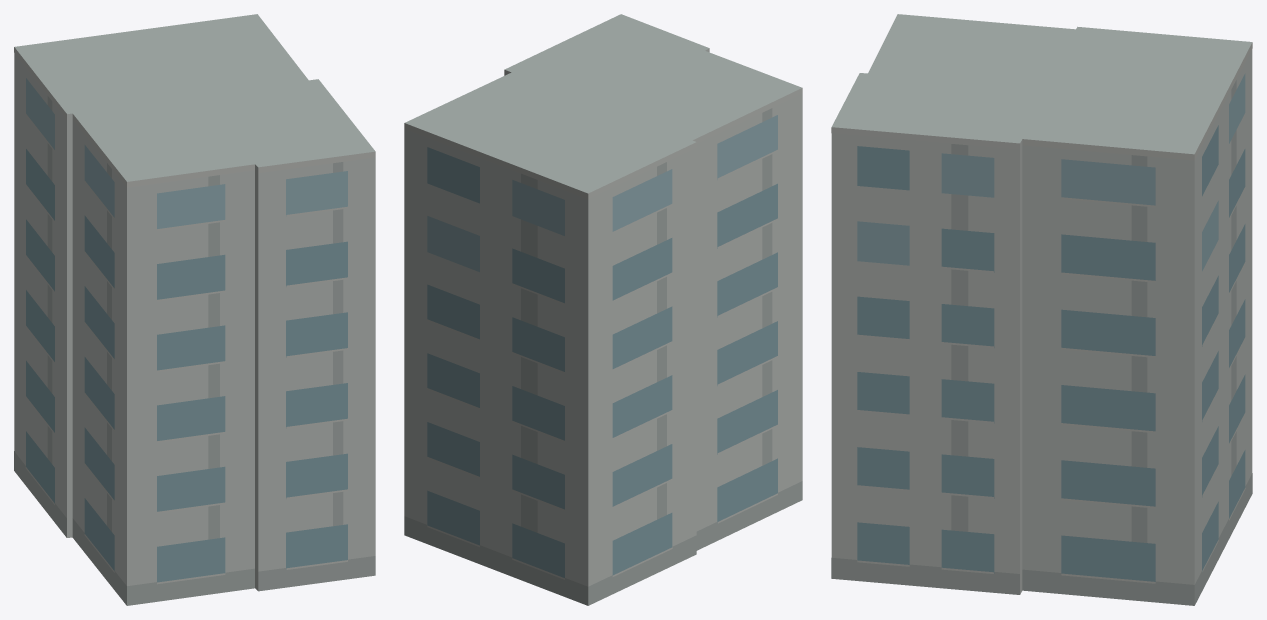
The model's file is survey-upis-32505232.glb.
3 renders of one model, left to right at view 1: azimuth 30°, elevation 25°; view 2: azimuth 150°, elevation 25°; view 3: azimuth 270°, elevation 25°, orthographic. The views are drawn at different scales.
Visible parts, largest first — view 1: survey-upis-32505232.tmp; view 2: survey-upis-32505232.tmp; view 3: survey-upis-32505232.tmp.
Part boxes in pixels (x1,y1,x2,y2): survey-upis-32505232.tmp: (14,14,375,605); survey-upis-32505232.tmp: (404,14,802,605); survey-upis-32505232.tmp: (831,14,1252,605).
Bounding box in the file's own units: 11.6 × 17.4 × 14.71.
